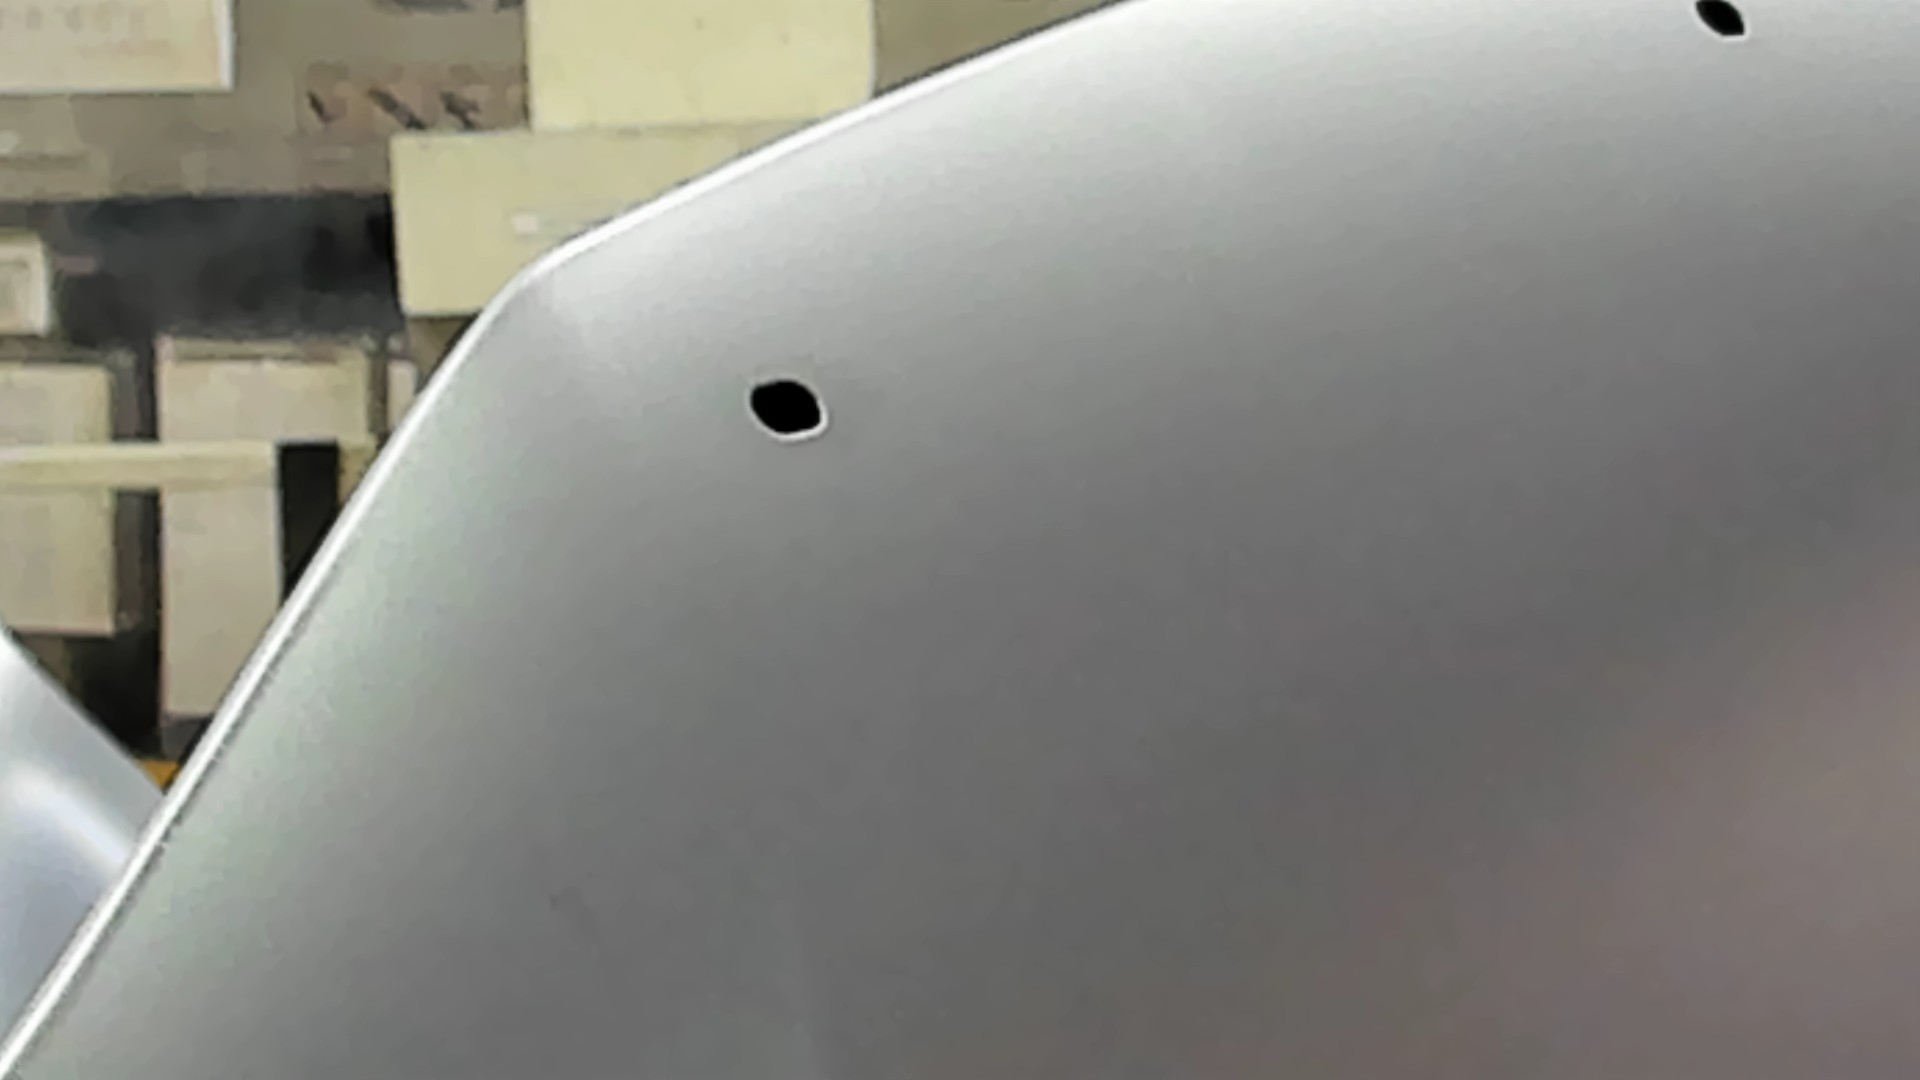amorfo: (742, 373, 833, 444), (1691, 1, 1753, 42)
capo: (894, 128, 1920, 1080)
